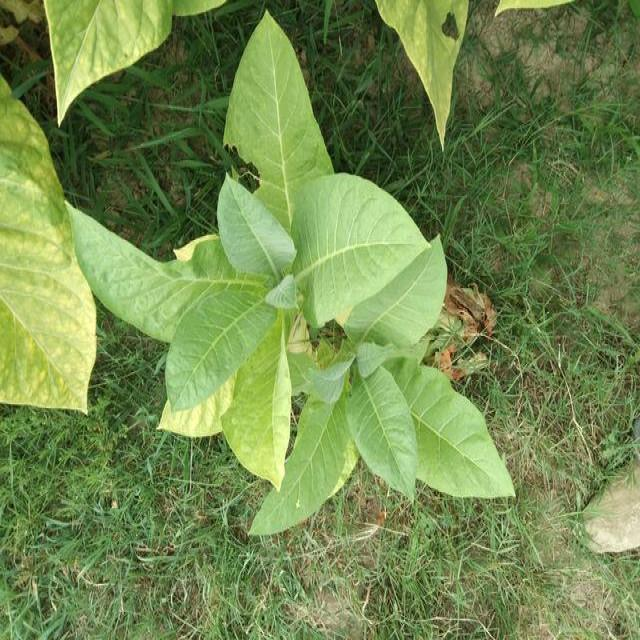crop: (155, 5, 529, 527)
